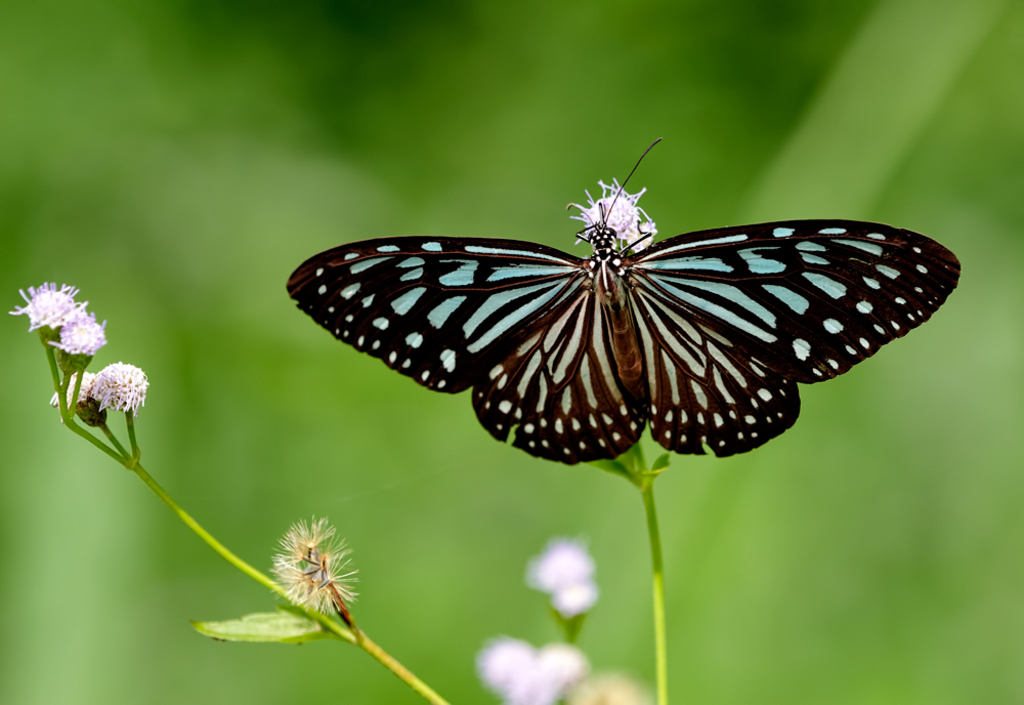Butterfly: (284, 212, 964, 456)
